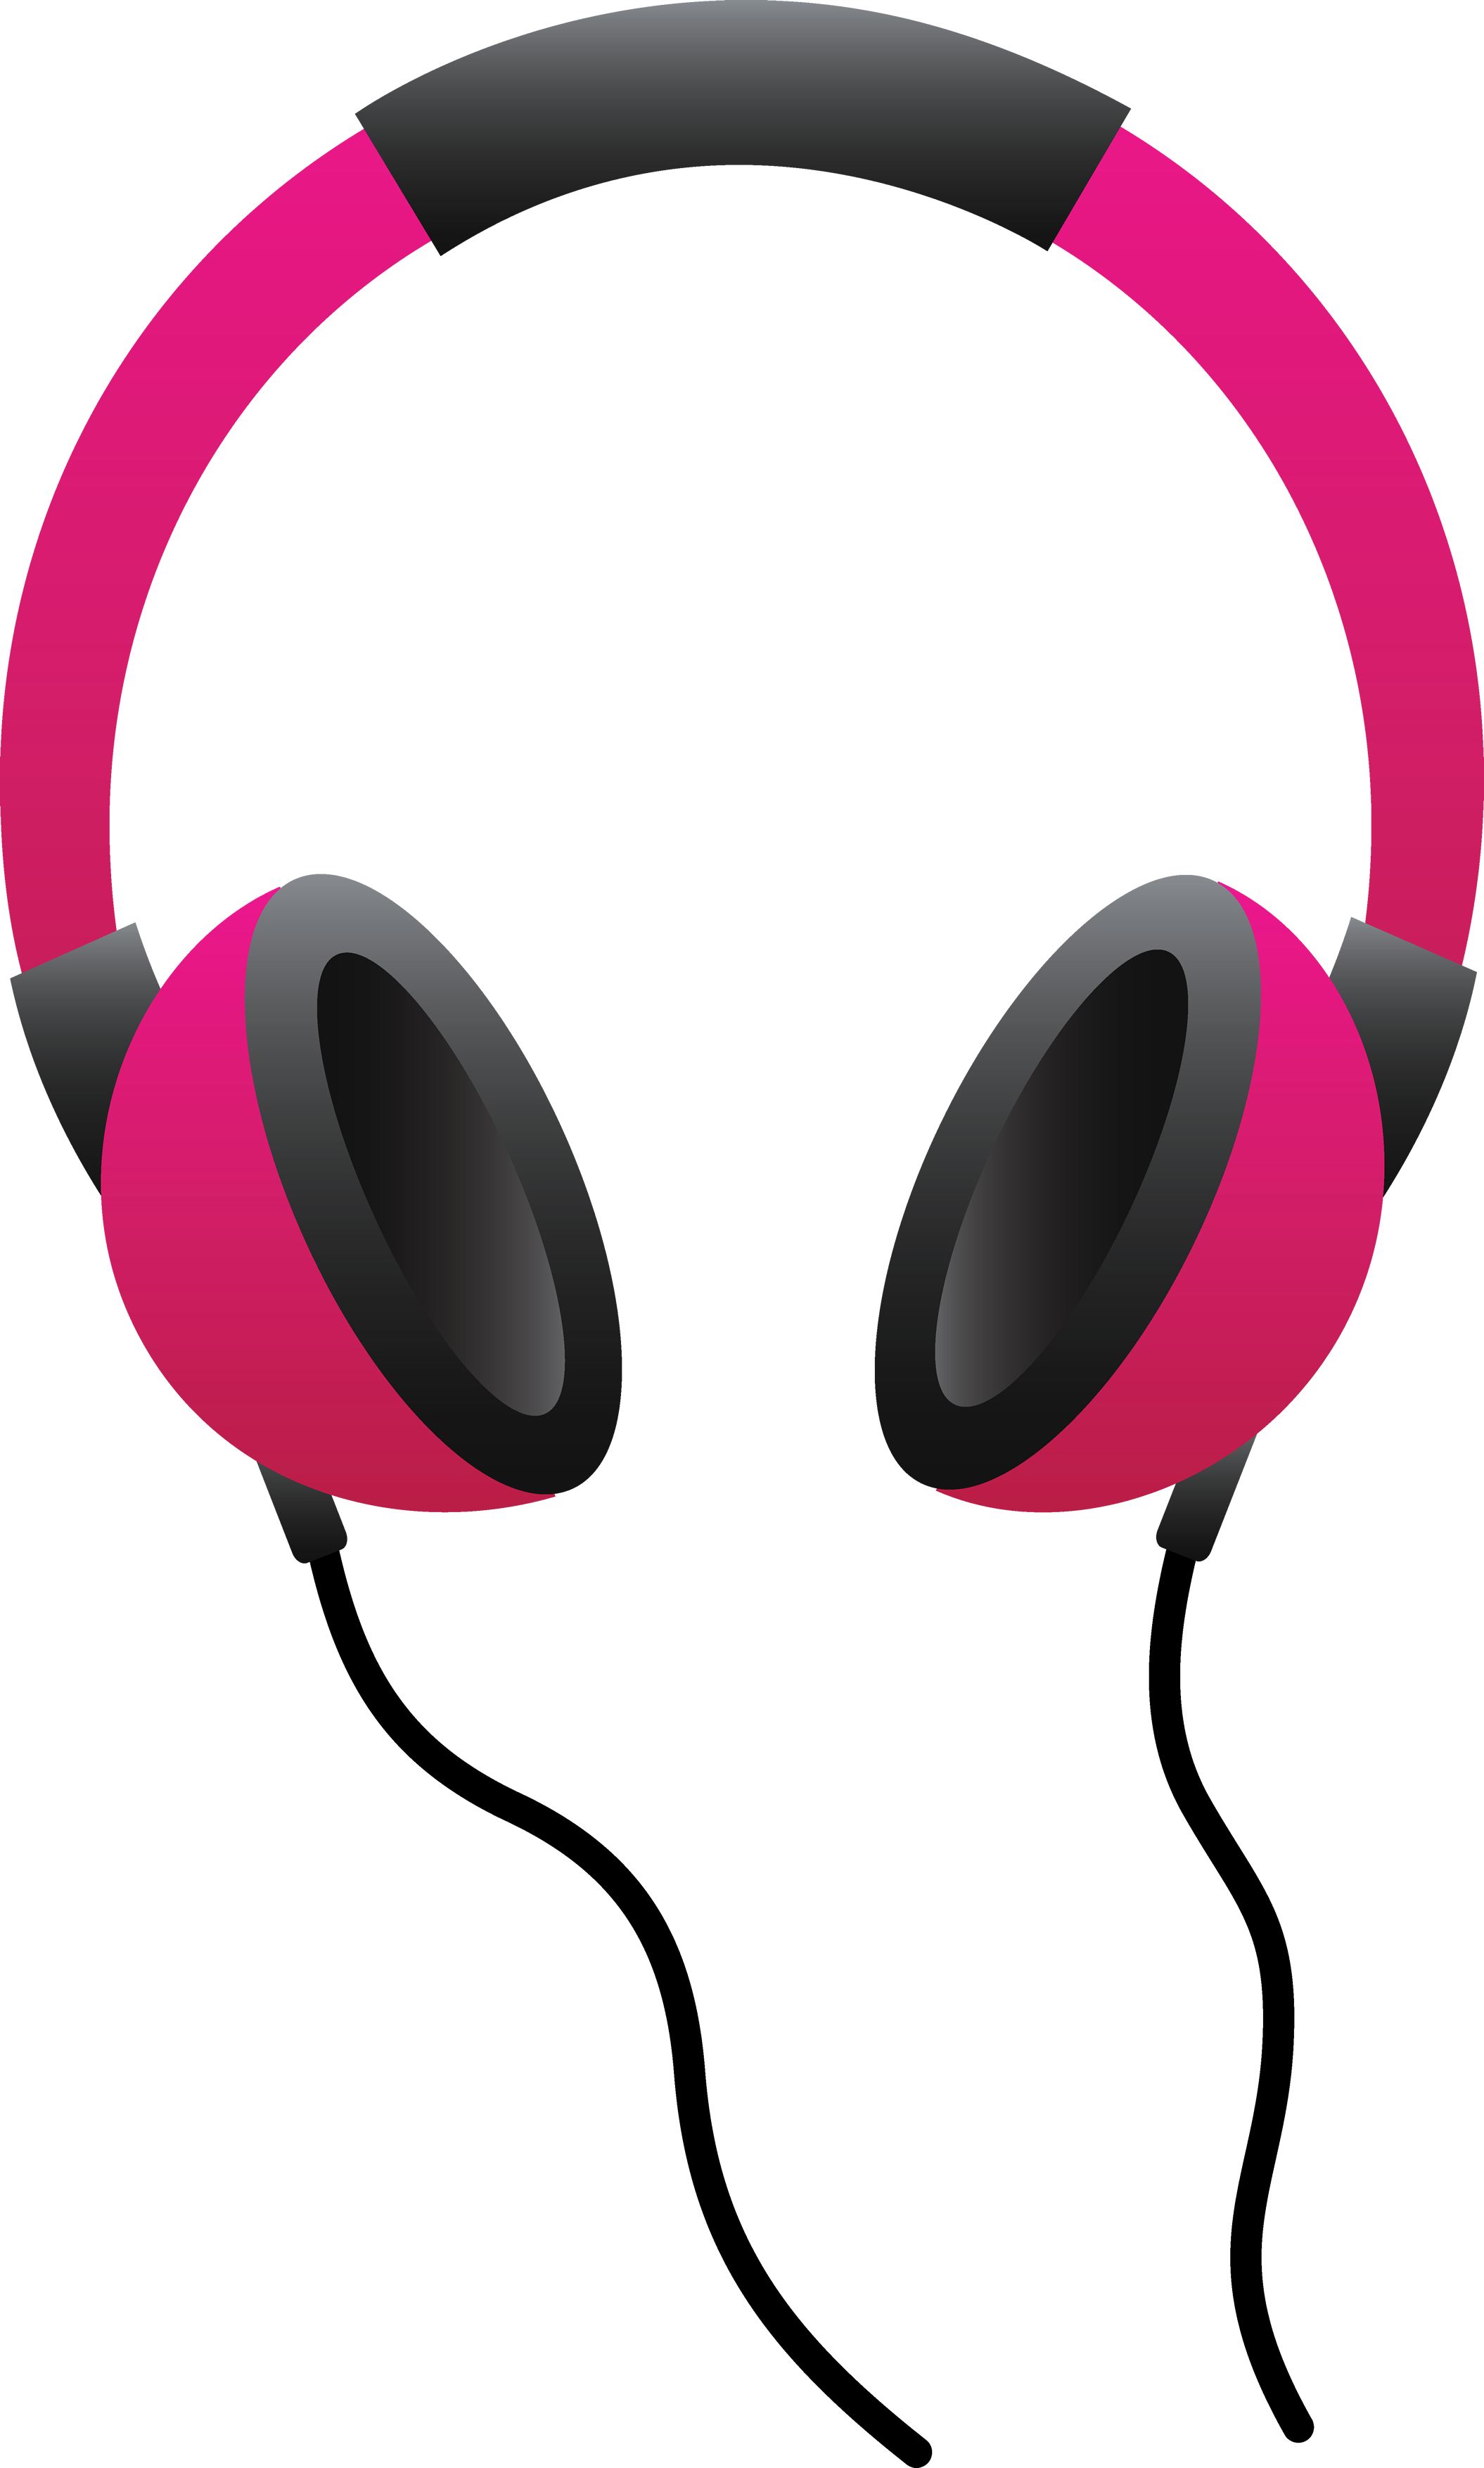headphone: (44, 242, 1480, 1542)
